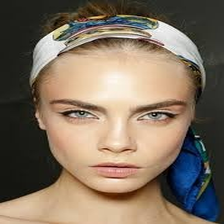no_mask: (42, 52, 191, 192)
